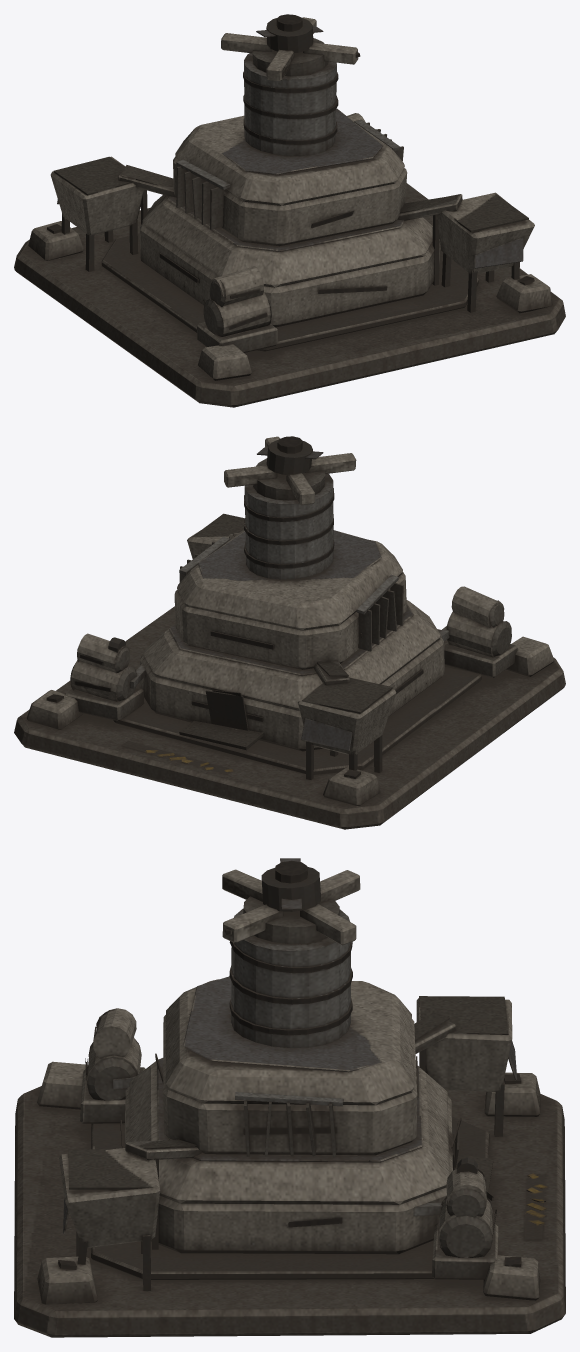
File: ord_advextractor_wreck.fbx
3 views of the same model, one above another, from view 1: azimuth 30°, elevation 25°; view 2: azimuth 150°, elevation 25°; view 3: azimuth 270°, elevation 25° (orthographic). The views are drawn at different scales.
Visible parts, largest first — view 1: base_bar, drill_bar; view 2: base_bar, drill_bar; view 3: base_bar, drill_bar.
Part boxes in pixels (x1,y1,x2,y2): base_bar: (14, 108, 565, 407); drill_bar: (221, 14, 360, 156); base_bar: (14, 513, 565, 829); drill_bar: (224, 436, 356, 579); base_bar: (14, 976, 565, 1337); drill_bar: (222, 858, 360, 1047).
Size of the model in its own units: 1550 by 1292 by 1549.
2 materials, 2 textured.
